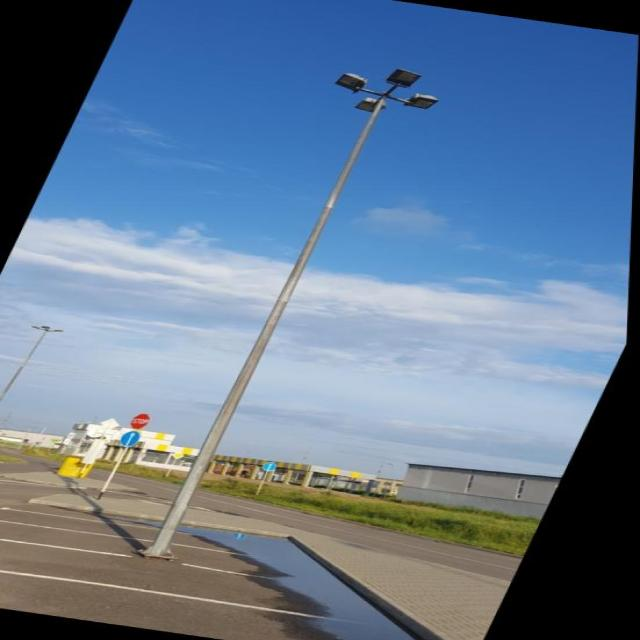pole: (132, 242, 298, 581)
